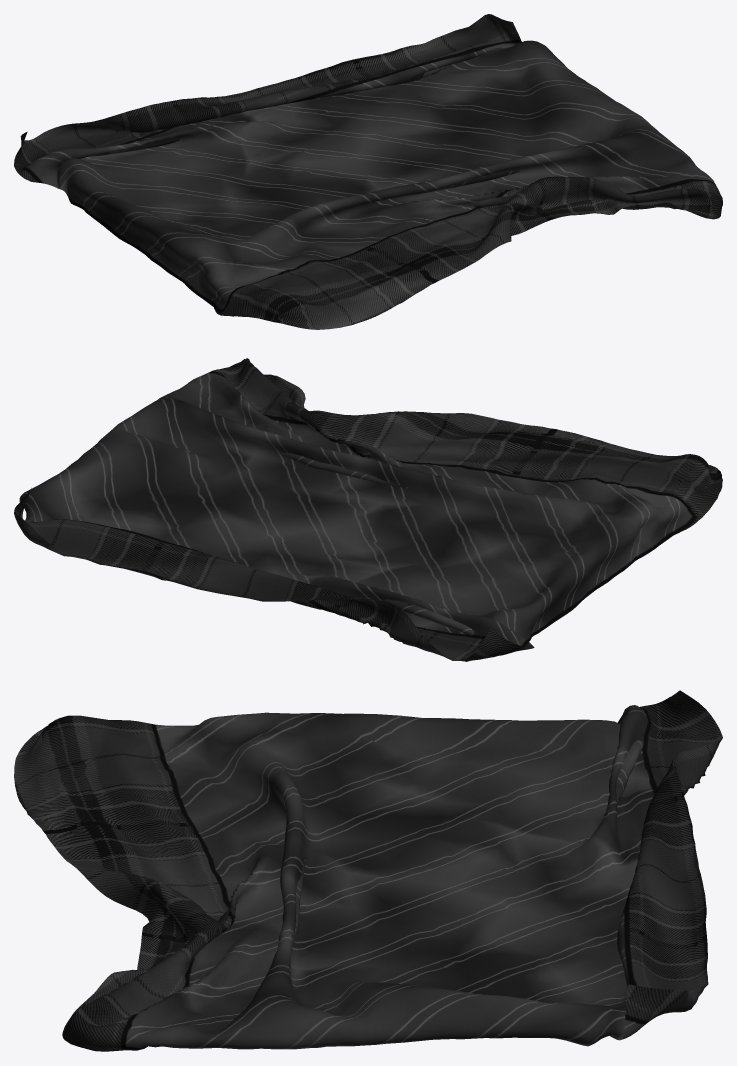
File: bedblack5.obj
3 views of the same model, one above another, from view 1: azimuth 30°, elevation 25°; view 2: azimuth 150°, elevation 25°; view 3: azimuth 270°, elevation 25° (orthographic). The views are drawn at different scales.
Visible parts, largest first — view 1: Plane004; view 2: Plane004; view 3: Plane004.
Boxes of the visible parts, x1,y1,x2,y2 form: Plane004: (14,14,722,329); Plane004: (14,358,722,661); Plane004: (14,690,722,1051).
Bounding box in the file's own units: 129 × 13.34 × 114.
